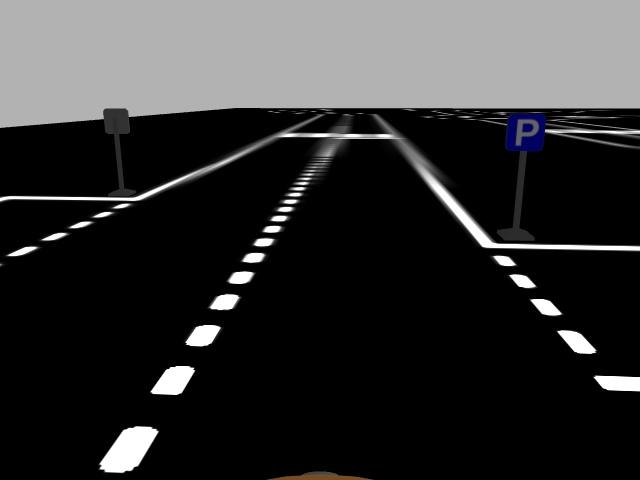parking: (505, 112, 545, 151)
